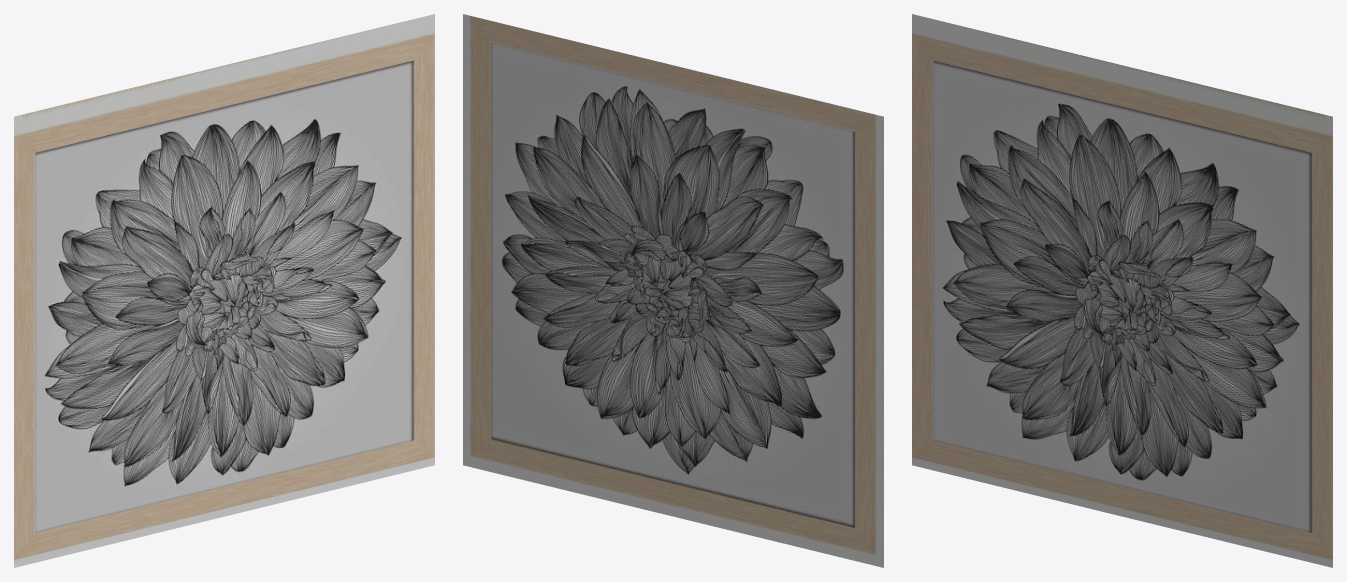
The model's file is mock_draft_2.glb.
3 renders of one model, left to right at view 1: azimuth 30°, elevation 25°; view 2: azimuth 150°, elevation 25°; view 3: azimuth 330°, elevation 25°, orthographic.
Parts seen in each view (by area): view 1: FramedPicture; view 2: FramedPicture; view 3: FramedPicture.
Boxes of the visible parts, box(x1,y1,x2,y2) form: FramedPicture: box(14, 14, 434, 567); FramedPicture: box(463, 14, 883, 567); FramedPicture: box(912, 14, 1332, 567).
Bounding box in the file's own units: 2 × 2.05 × 7.24e-06.
1 material, 1 textured.
